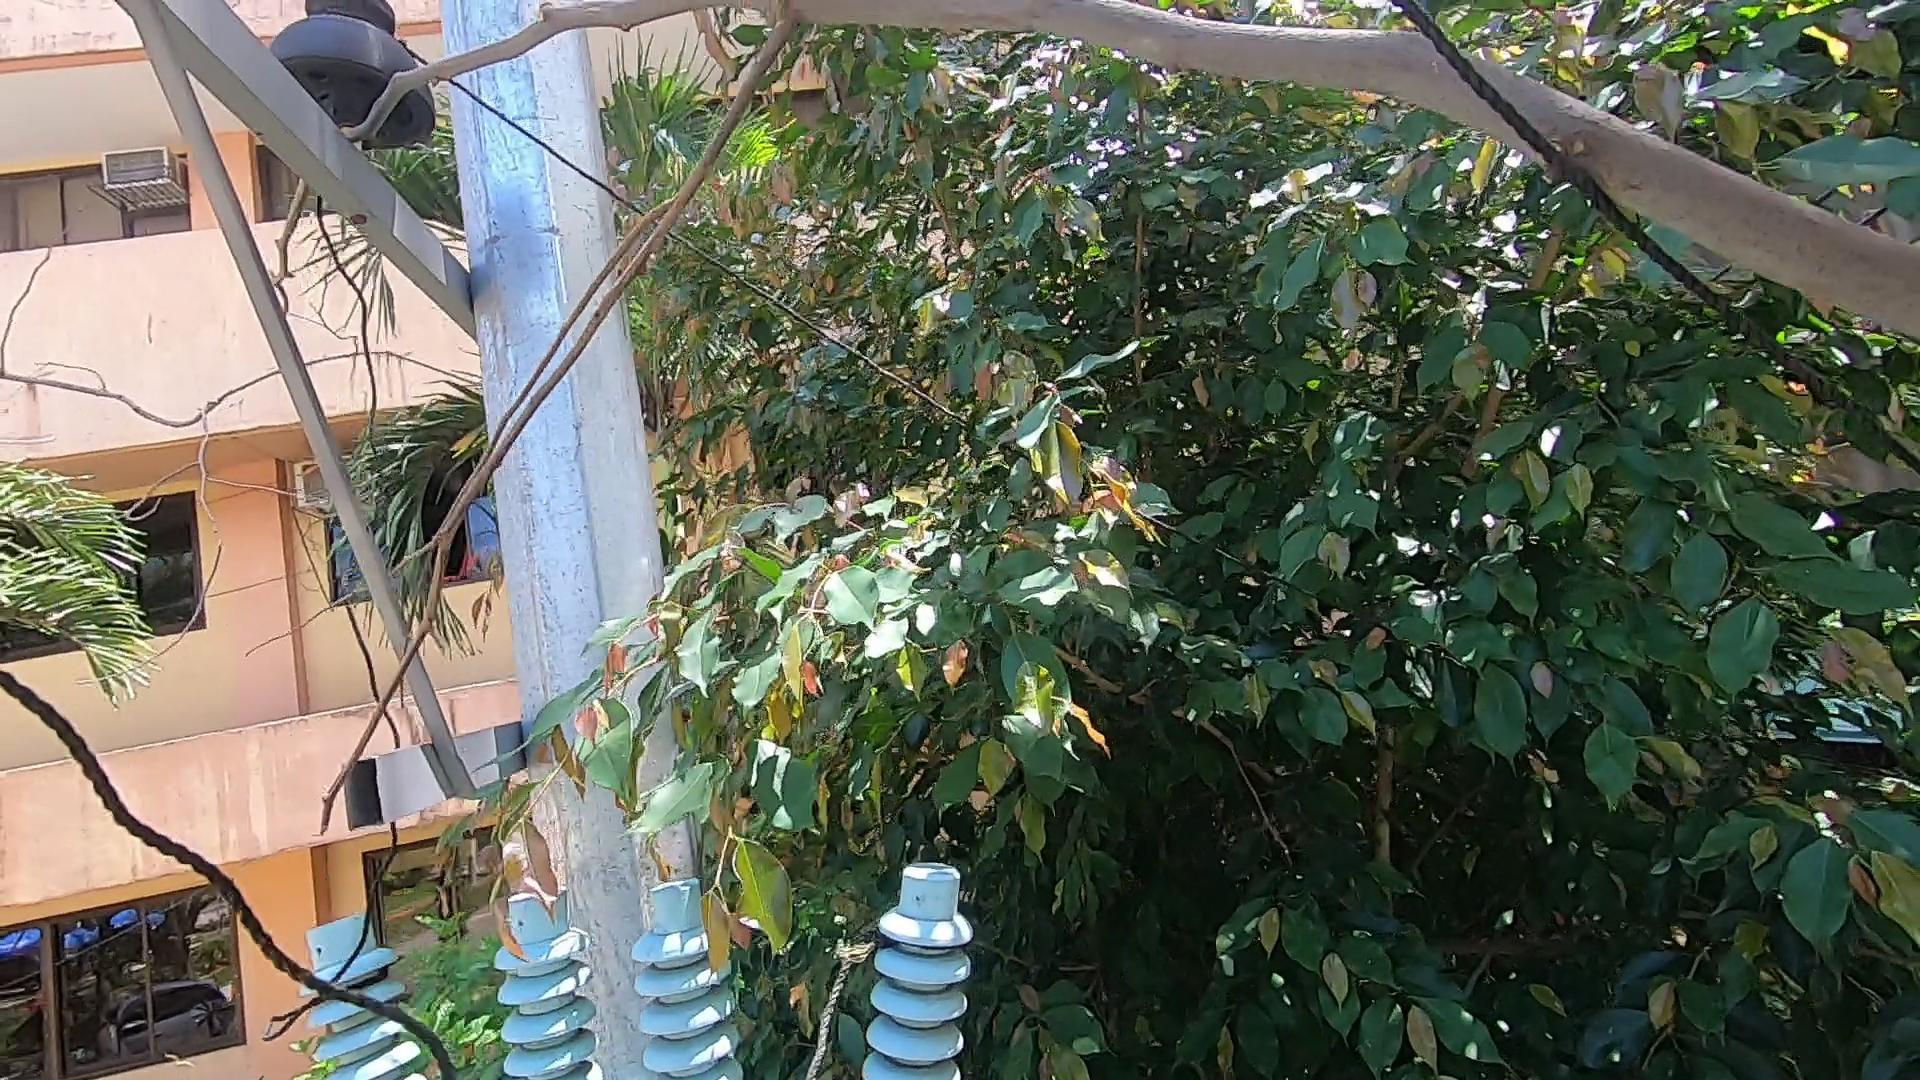branch with leaves: (473, 703, 855, 990)
tree branch: (1, 16, 1022, 837)
